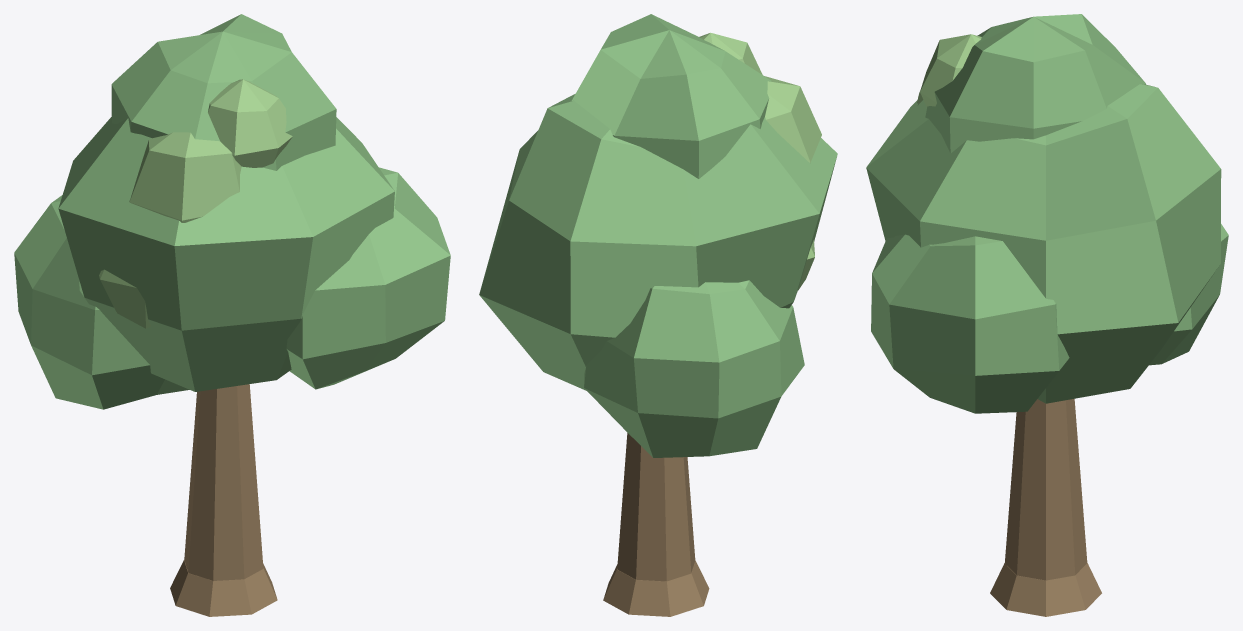
File: tree_round.glb
3 renders of one model, left to right at view 1: azimuth 30°, elevation 25°; view 2: azimuth 150°, elevation 25°; view 3: azimuth 270°, elevation 25°, orthographic. The views are drawn at different scales.
Parts seen in each view (by area): view 1: cn, tr, cn2; view 2: cn, tr, cn2; view 3: cn, tr, cn2.
Boxes of the visible parts, bbox=[...] form: cn: bbox=[14, 14, 450, 409]; tr: bbox=[170, 384, 277, 616]; cn2: bbox=[99, 79, 292, 328]; cn: bbox=[479, 14, 837, 457]; tr: bbox=[603, 433, 709, 616]; cn2: bbox=[699, 32, 821, 290]; cn: bbox=[866, 14, 1228, 413]; tr: bbox=[990, 398, 1101, 616]; cn2: bbox=[917, 34, 981, 107].
Bounding box in the file's own units: 0.9615 × 1.52 × 0.872.
